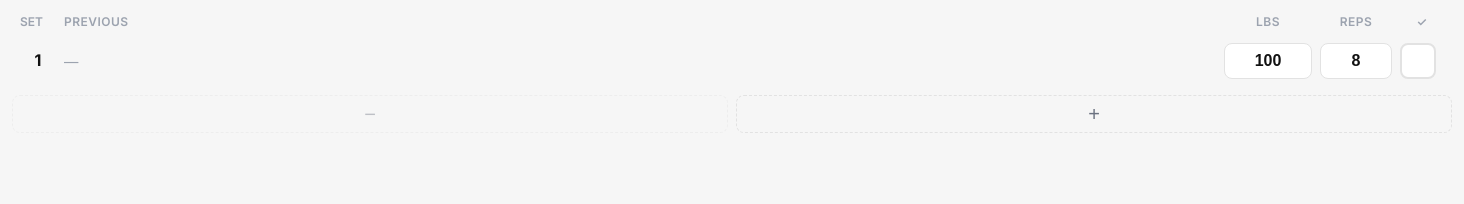
Test: SetTable › + right after editing the last set copies the edited values
The image size is (1464, 204).
Replace the text in the number field named "Set 1 weight" with "120" at coordinates (1268, 61), box x1=1224 y1=43 x2=1312 y2=79
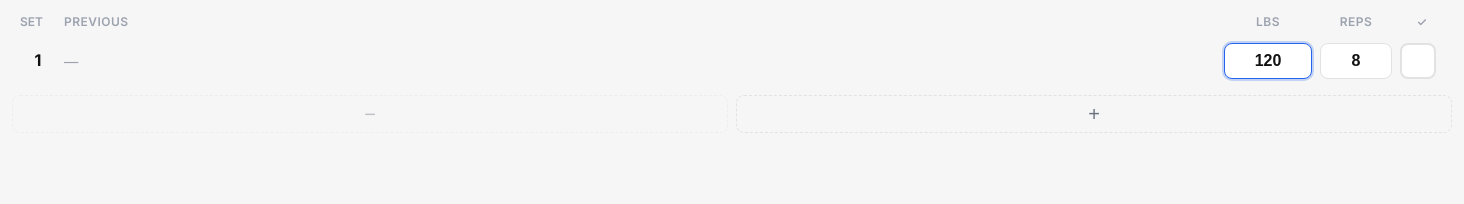
Click the button named "Add Bench set" at coordinates (1094, 114), box x1=736 y1=95 x2=1452 y2=133
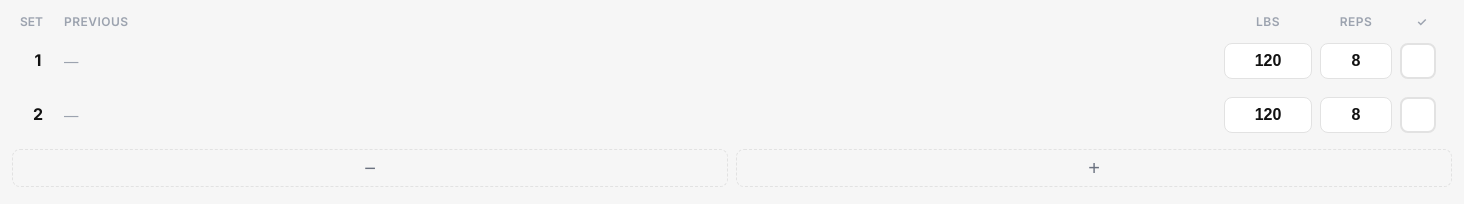
Expected: the number field named "Set 2 weight" holds "120", x1=1224 y1=97 x2=1312 y2=133
